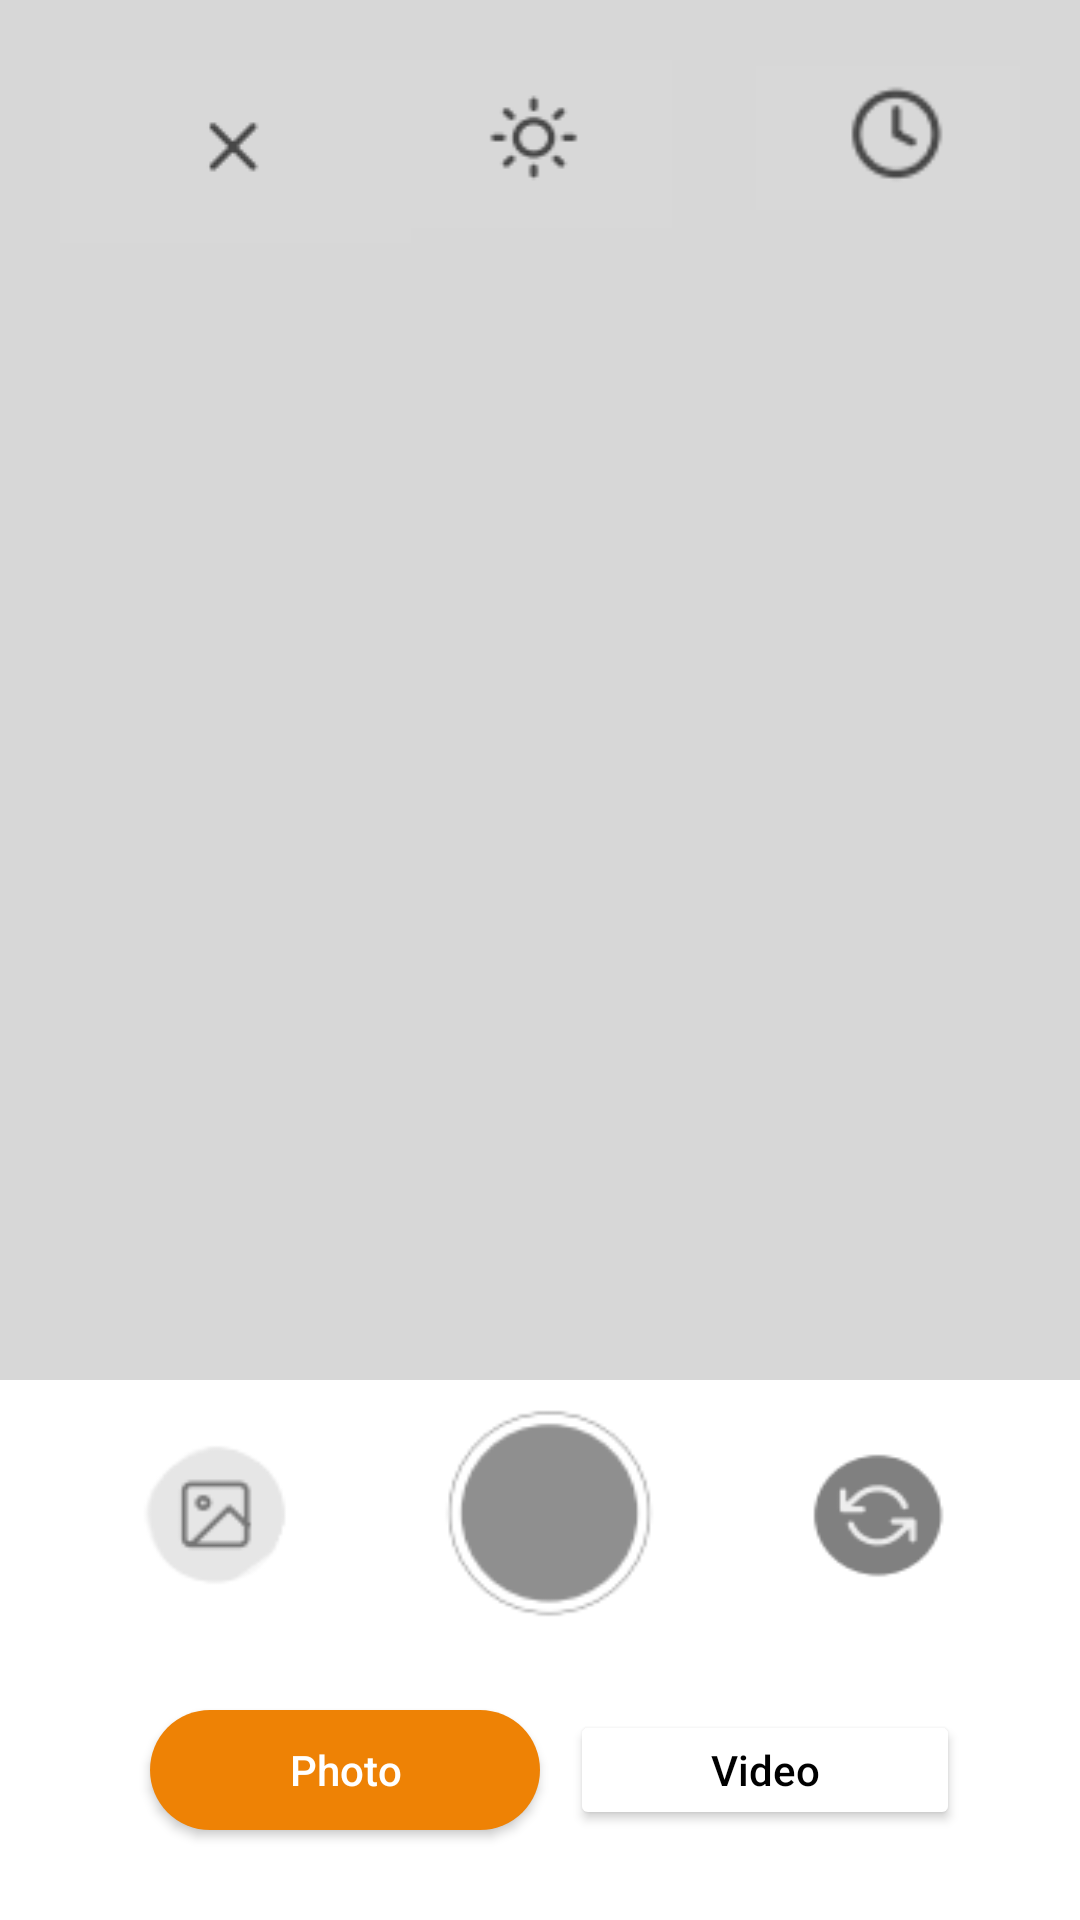

Icons on this 1080x1920 Android screen, each with its box as rect(x1, y1, x2, y2):
brightness: rect(490, 96, 577, 178)
switch cam: rect(813, 1454, 943, 1577)
